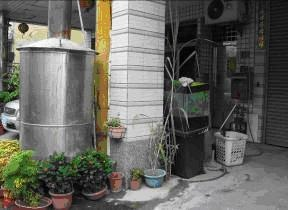aquarium: (164, 81, 211, 131)
bucket: (18, 48, 94, 162)
